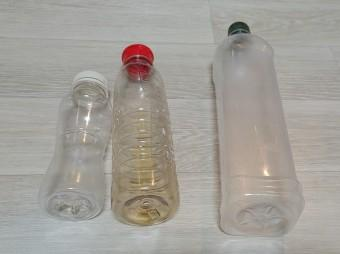bottle: (213, 20, 292, 236), (43, 71, 112, 222), (129, 43, 162, 227)
